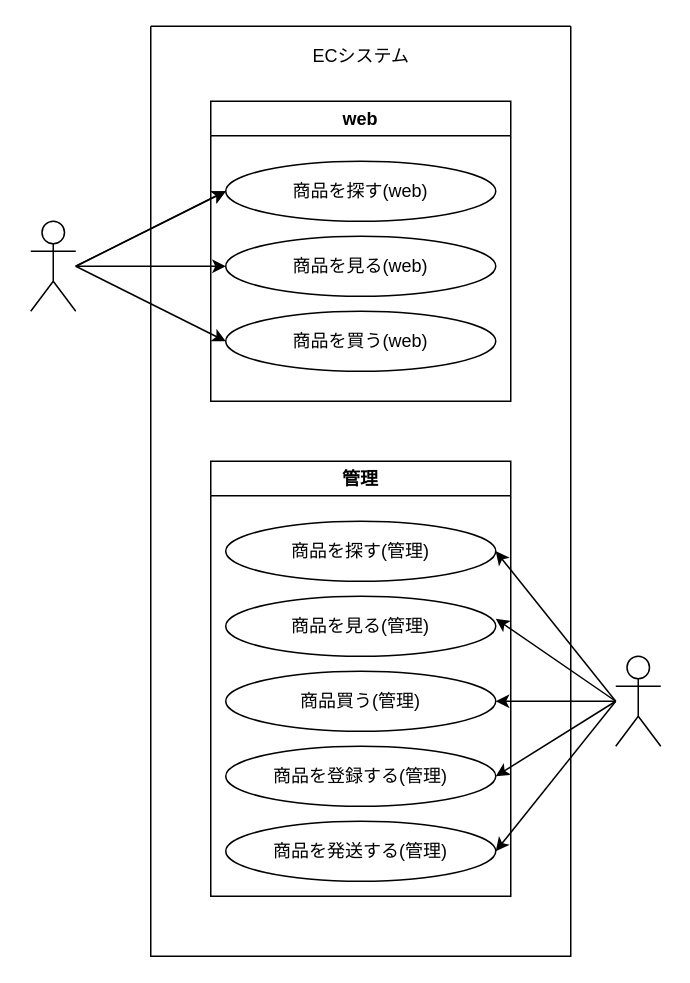
Some shapes in this 690 by 983 pixel diagram are drawn without their labels. Here are the shapes that lost their labels. From the top down, the box of each, then its label:
(29, 220, 76, 311): 購入者
(614, 655, 661, 746): 管理者
